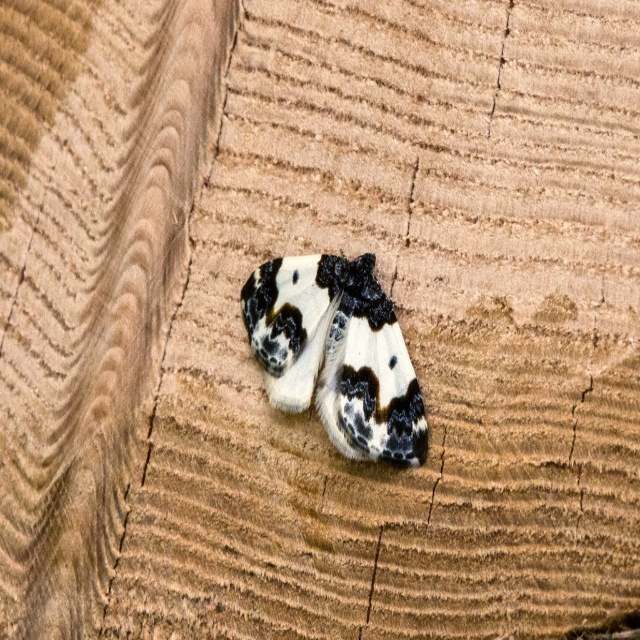Moths and butterflies: (237, 247, 429, 468)
